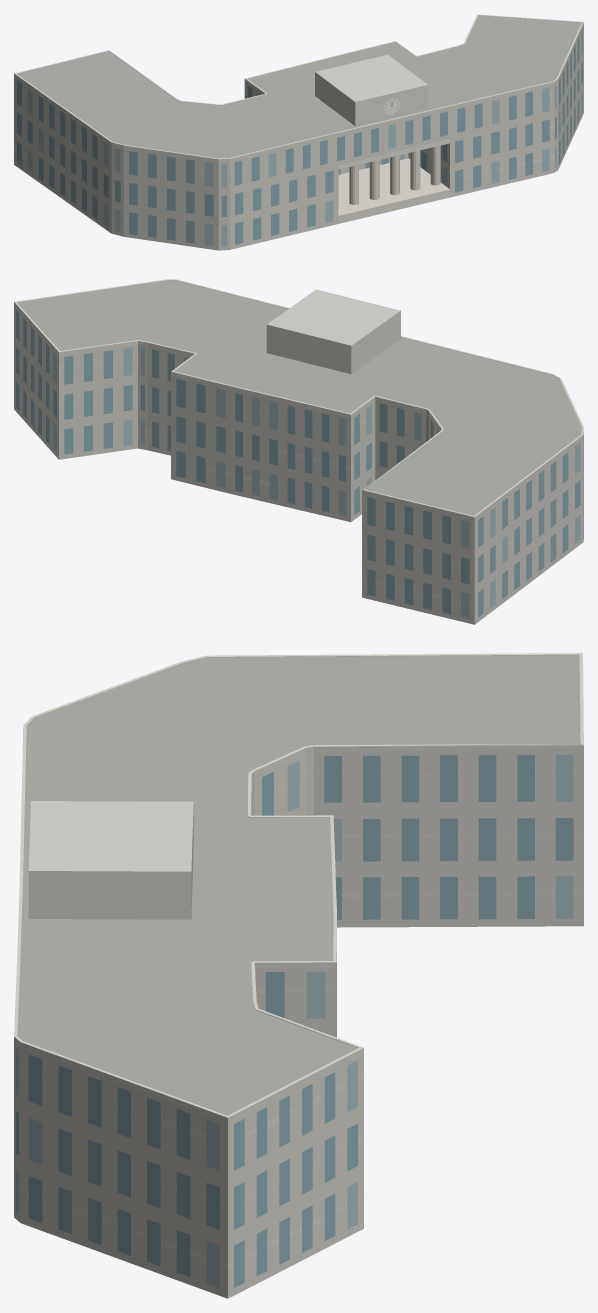
The model's file is civic-93725b2d-b39e-490f-bc2e-77536fc0d0c4.glb.
The picture shows the model from 3 angles, top to bottom: view 1: azimuth 30°, elevation 25°; view 2: azimuth 150°, elevation 25°; view 3: azimuth 270°, elevation 25°; orthographic projection. The views are drawn at different scales.
Parts seen in each view (by area): view 1: civic-93725b2d-b39e-490f-bc2e-77536fc0d0c4; view 2: civic-93725b2d-b39e-490f-bc2e-77536fc0d0c4; view 3: civic-93725b2d-b39e-490f-bc2e-77536fc0d0c4.
Boxes of the visible parts, left/top/right/bottom form: civic-93725b2d-b39e-490f-bc2e-77536fc0d0c4: left=14, top=14, right=583, bottom=250; civic-93725b2d-b39e-490f-bc2e-77536fc0d0c4: left=14, top=279, right=583, bottom=624; civic-93725b2d-b39e-490f-bc2e-77536fc0d0c4: left=14, top=653, right=583, bottom=1298.
Bounding box in the file's own units: 80.67 × 18.5 × 41.81.
